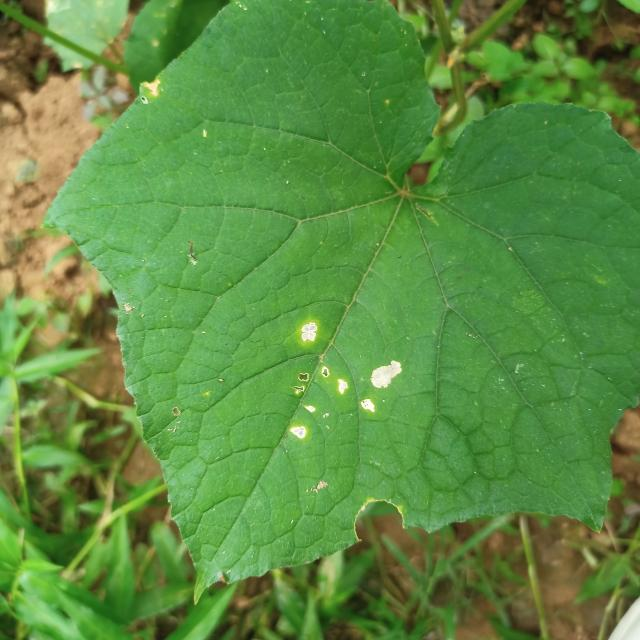disease_cucumber: (292, 322, 402, 436)
